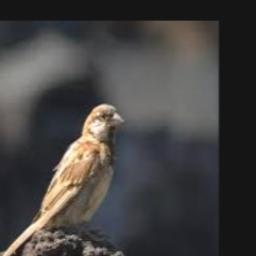Sparrow: (0, 102, 124, 256)
